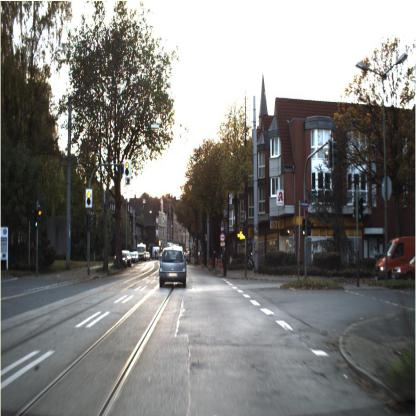prohibitory: (219, 230, 226, 244)
